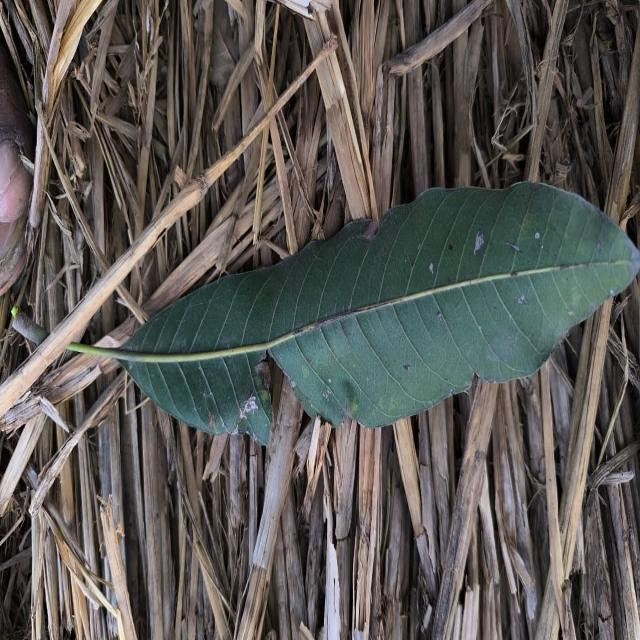Bacterial Cancer: (250, 342, 293, 387), (362, 217, 386, 244)
Powdery Mildew: (470, 228, 489, 256), (242, 391, 259, 421), (427, 262, 437, 274), (533, 229, 542, 242), (517, 293, 526, 305)
black die: (447, 242, 455, 253), (402, 362, 410, 371)
